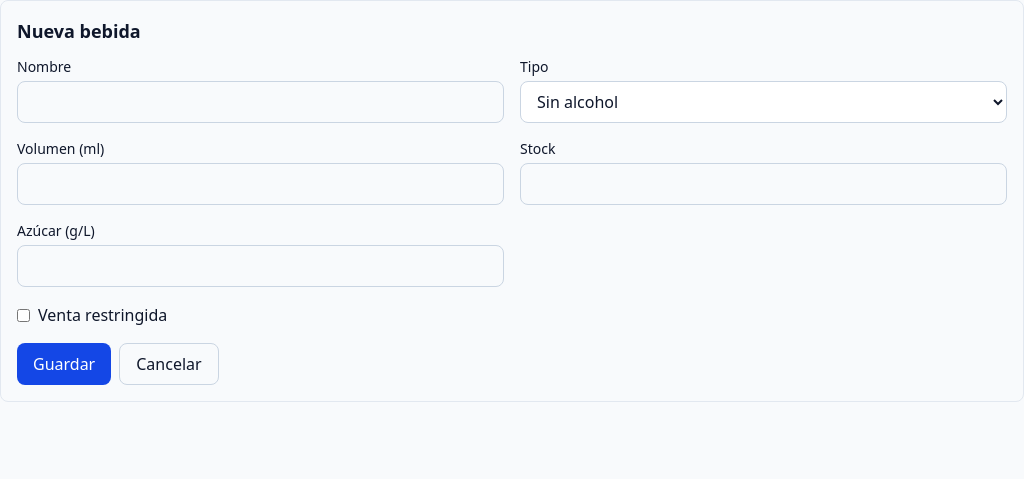
Test: Catálogo y formulario › muestra validaciones por campo sin cerrar el formulario
Click the button "Guardar" at x=64, y=364, box [17,343,111,385]
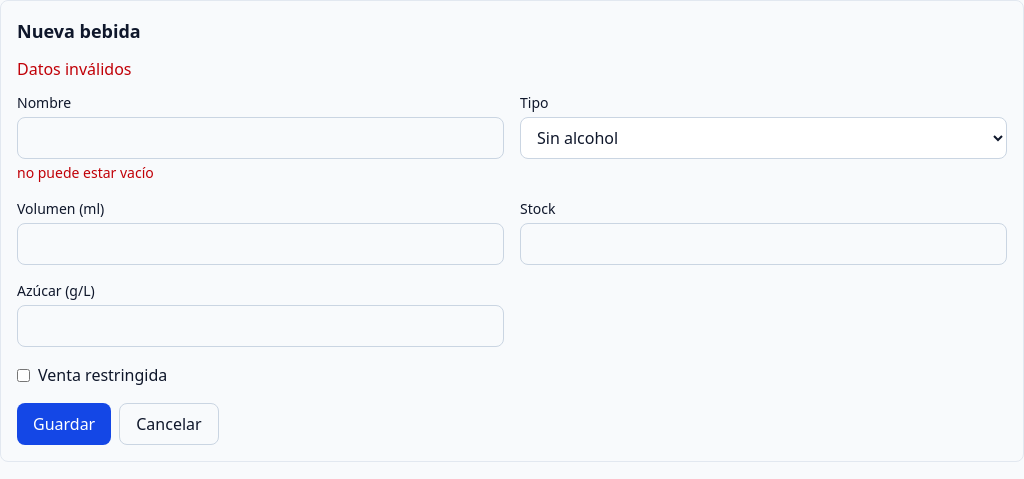
Now the text "no puede estar vacío" is shown, box [17,163,154,182]
